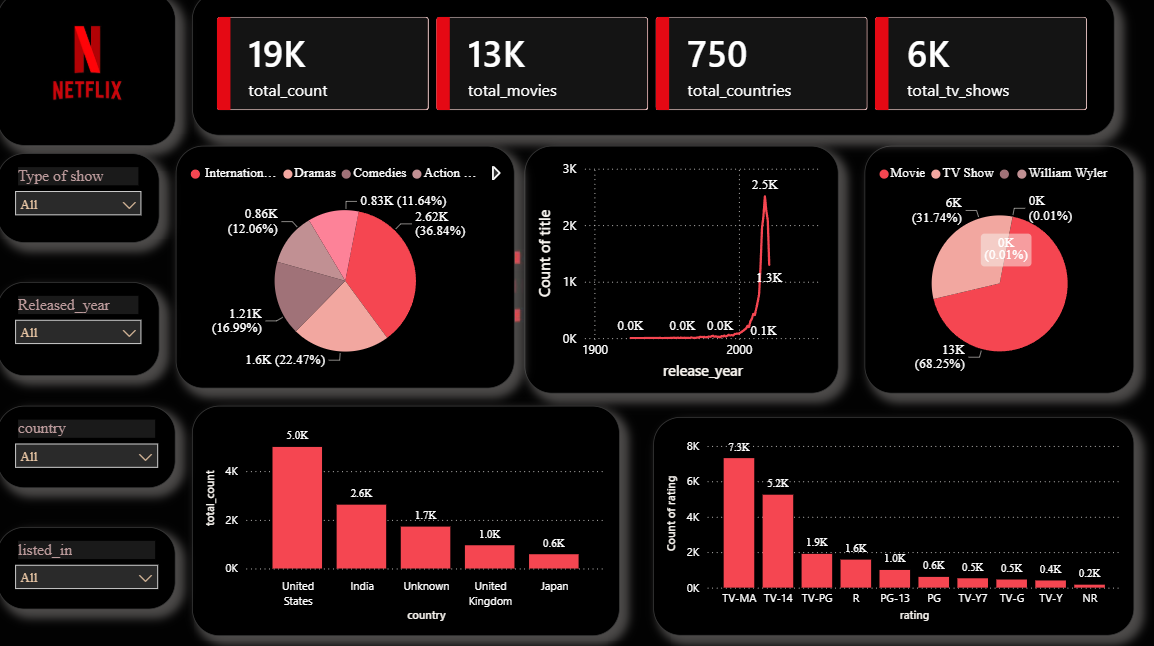

Layout of this report page (visuals, bound fields, positions):
{"tool":"powerbi","page":{"name":"Page 1","canvas":[1280,720],"ordinal":0},"visuals":[{"type":"pieChart","fields":{"Category":["netflix_titles.type"],"Y":["netflix_titles.total_count"]},"box":[952.3,168.8,296.4,271.7],"z":0},{"type":"cardVisual","fields":{"Data":["netflix_titles.total_count","netflix_titles.total_movies","netflix_titles.total_countries","netflix_titles.total_tv_shows"]},"box":[214.1,0,1044.3,157.8],"z":1000},{"type":"image","box":[0,0,196.2,168.8],"z":2000},{"type":"lineChart","fields":{"Category":["netflix_titles.release_year"],"Y":["CountNonNull(netflix_titles.title)"]},"box":[579.1,168.8,344.4,271.7],"z":3000},{"type":"columnChart","fields":{"Category":["netflix_titles.country"],"Y":["netflix_titles.total_count"]},"box":[214.1,454.2,469.3,252.5],"z":4000},{"type":"columnChart","fields":{"Category":["netflix_titles.rating"],"Y":["CountNonNull(netflix_titles.rating)"]},"box":[720.4,466.6,537.9,240.1],"z":5000},{"type":"pieChart","fields":{"Y":["CountNonNull(netflix_titles.listed_in)"],"Category":["netflix_titles.listed_in"]},"box":[196.2,168.8,371.9,266.2],"z":6000},{"type":"slicer","fields":{"Values":["netflix_titles.type"]},"box":[0,177,178.4,98.8],"z":7000},{"type":"slicer","fields":{"Values":["netflix_titles.release_year"]},"box":[0,318.4,178.4,102.9],"z":8000},{"type":"slicer","fields":{"Values":["netflix_titles.country"]},"box":[0,454.2,196.2,90.6],"z":9000},{"type":"slicer","fields":{"Values":["netflix_titles.listed_in"]},"box":[0,587.3,196.2,90.6],"z":9001}]}

Visuals, with their boxes in screenshot pixels (x1, y1, x2, y2), scaled from the page's 1280x720 canvas onto the 1154x646 screenshot:
pieChart - netflix_titles.type x netflix_titles.total_count: <region>859, 151, 1126, 395</region>
cardVisual - netflix_titles.total_count x netflix_titles.total_movies: <region>193, 0, 1135, 142</region>
image: <region>0, 0, 177, 151</region>
lineChart - netflix_titles.release_year x CountNonNull(netflix_titles.title): <region>522, 151, 833, 395</region>
columnChart - netflix_titles.country x netflix_titles.total_count: <region>193, 408, 616, 634</region>
columnChart - netflix_titles.rating x CountNonNull(netflix_titles.rating): <region>649, 419, 1134, 634</region>
pieChart - CountNonNull(netflix_titles.listed_in) x netflix_titles.listed_in: <region>177, 151, 512, 390</region>
slicer - netflix_titles.type: <region>0, 159, 161, 247</region>
slicer - netflix_titles.release_year: <region>0, 286, 161, 378</region>
slicer - netflix_titles.country: <region>0, 408, 177, 489</region>
slicer - netflix_titles.listed_in: <region>0, 527, 177, 608</region>
